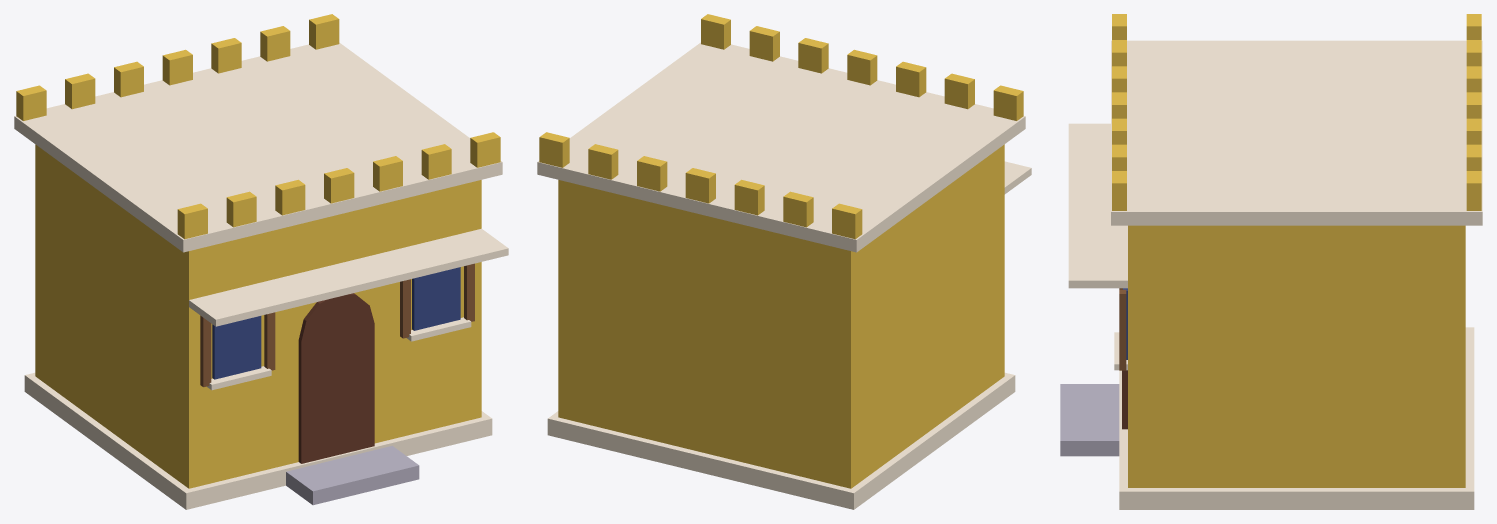
File: house_b.glb
3 renders of one model, left to right at view 1: azimuth 30°, elevation 25°; view 2: azimuth 150°, elevation 25°; view 3: azimuth 270°, elevation 25°, orthographic. The views are drawn at different scales.
Parts seen in each view (by area): view 1: house_b; view 2: house_b; view 3: house_b.
Boxes of the visible parts, x1,y1,x2,y2 form: house_b: [14, 14, 508, 509]; house_b: [537, 14, 1031, 509]; house_b: [1060, 14, 1482, 509].
Size of the model in its own units: 4.8 by 4.3 by 5.
